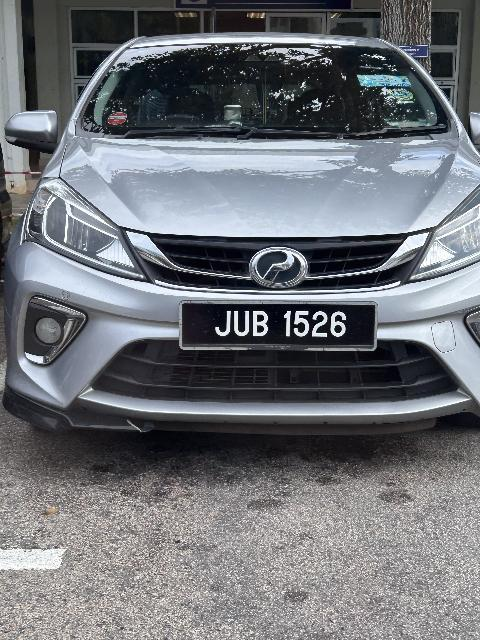JUB1526: (177, 297, 384, 360)
License_Plate: (177, 297, 384, 360)
car: (1, 32, 480, 444)
